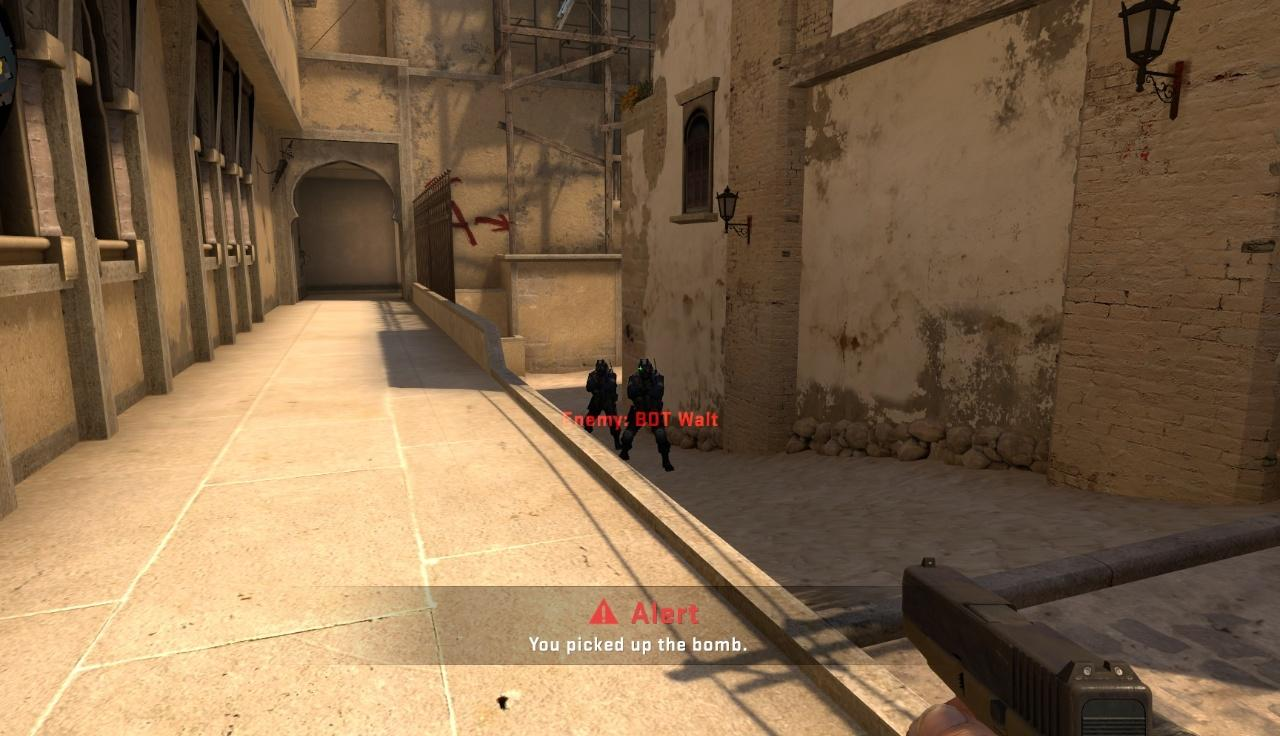ct: (620, 359, 675, 472), (583, 359, 622, 450)
cthead: (638, 359, 653, 380), (596, 360, 607, 375)
pistol: (901, 556, 1210, 736)
